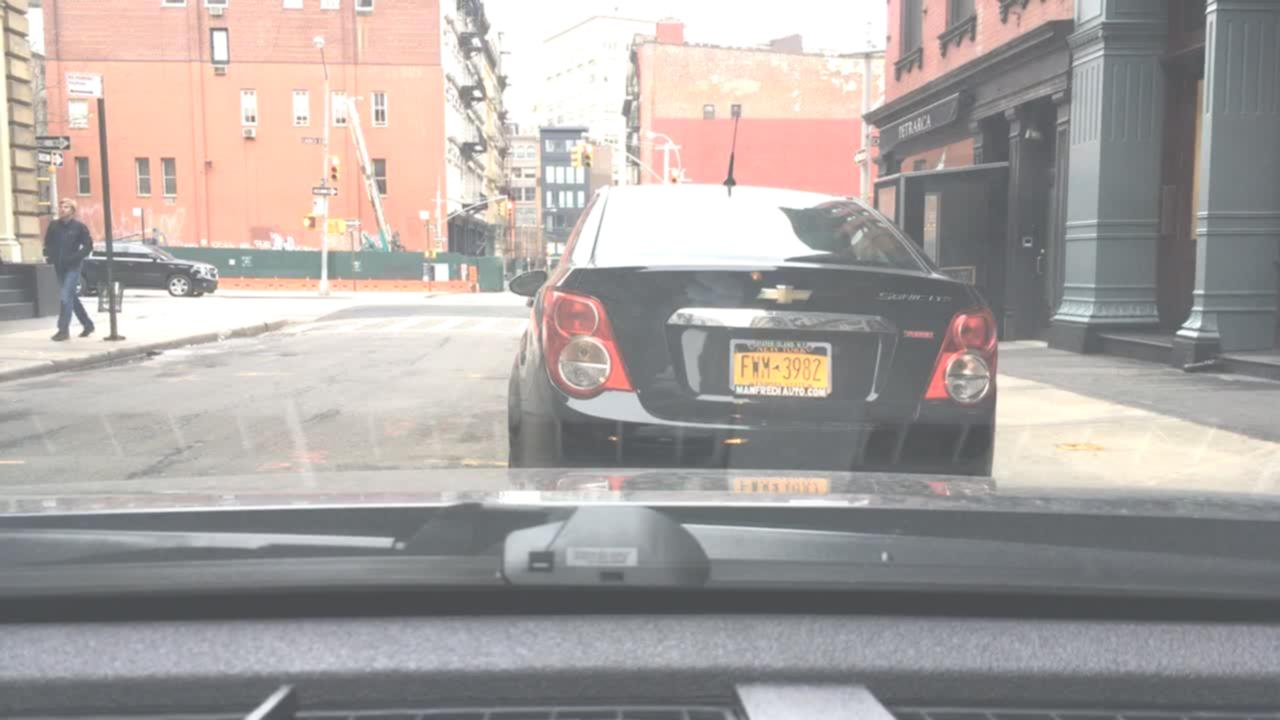chevrolet: (740, 278, 833, 317)
